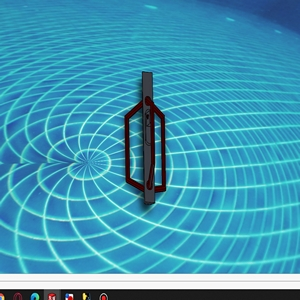submarine: (124, 70, 168, 198)
